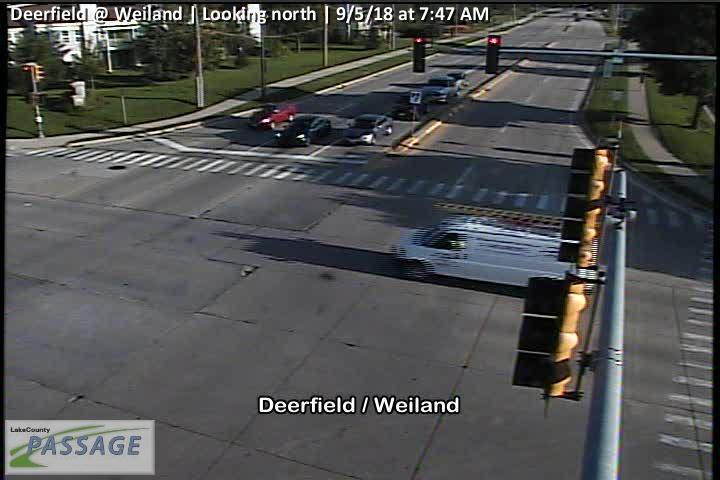SUV: (424, 75, 458, 103), (392, 91, 426, 117)
Sedan: (276, 116, 332, 148), (341, 113, 393, 146), (248, 100, 299, 131), (447, 71, 470, 88)
Truck: (395, 215, 598, 294)
